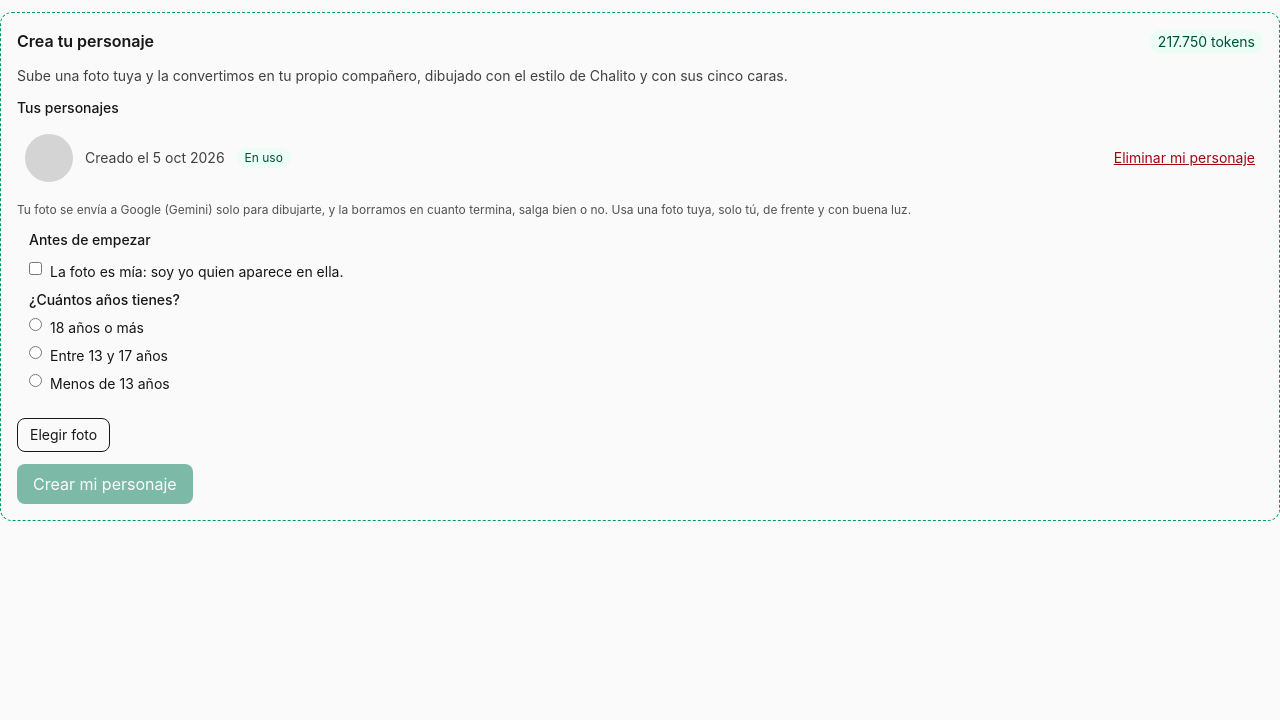
Scenario: Eliminar mi personaje › in flight: says to wait, keeps it listed
The width and height of the screenshot is (1280, 720).
Step 1. Click the button with test id "kept-character-delete" → [1184, 158], box [1114, 148, 1255, 168]
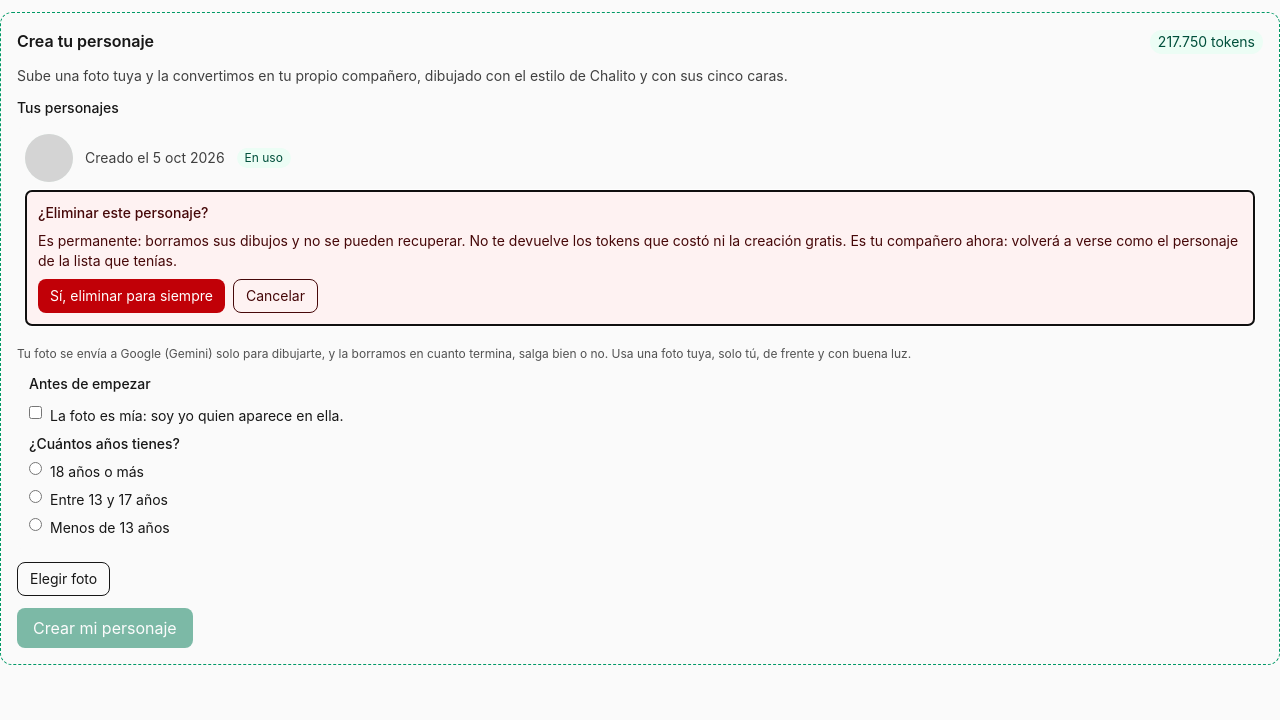
Step 2. Click the button with test id "kept-character-confirm-yes" → [131, 296], box [38, 279, 225, 313]
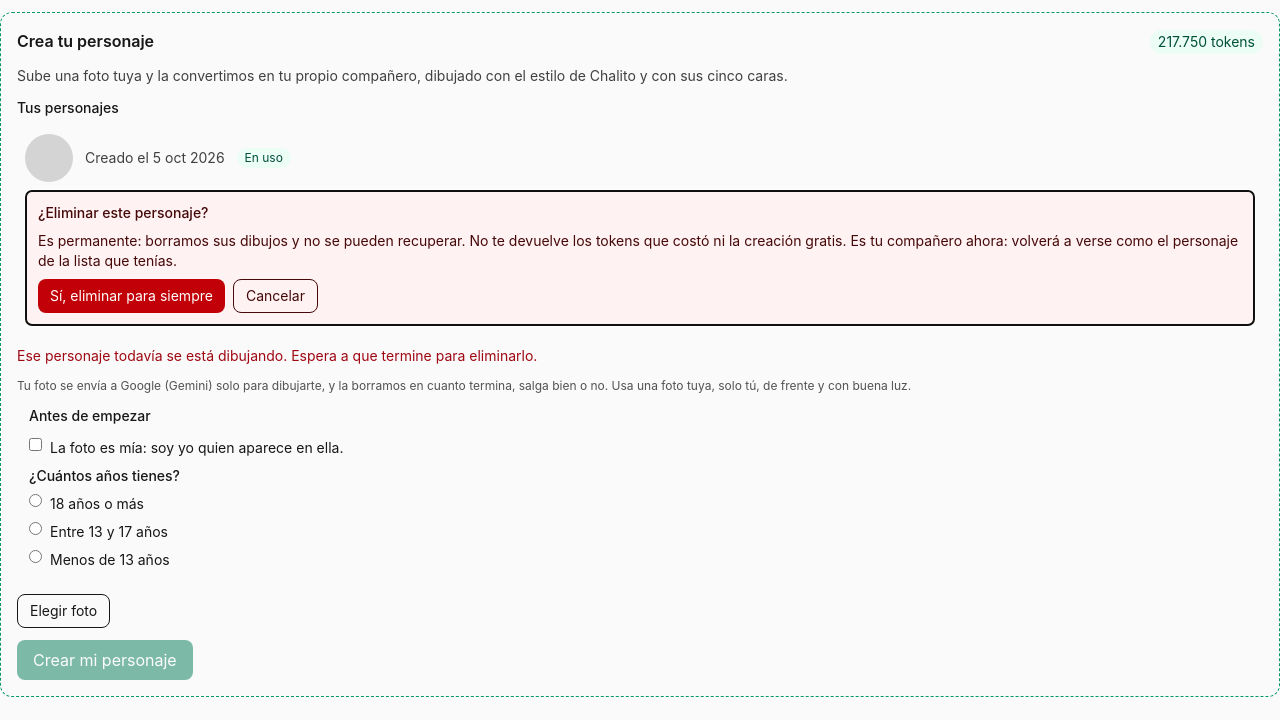
Check: the list item with test id "kept-character" is shown, box [17, 126, 1263, 334]
Check: the message with test id "kept-character-note" shows "todavía se está dibujando", box [17, 347, 537, 364]
